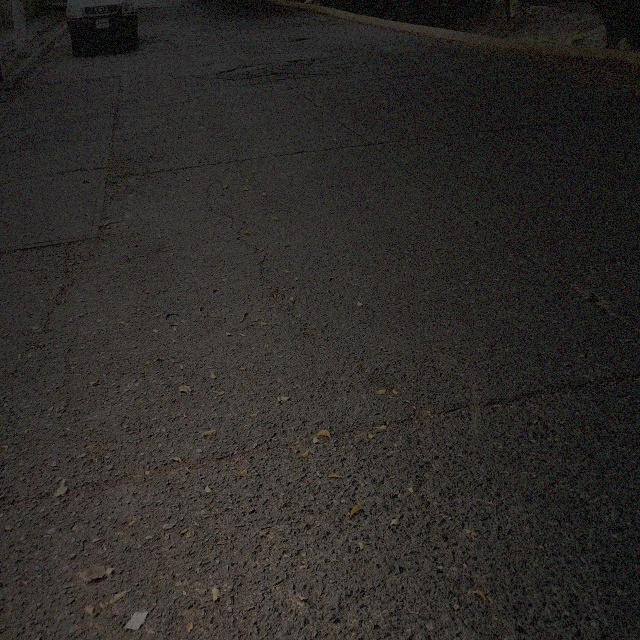pothole: (219, 60, 275, 77), (288, 35, 306, 45)
